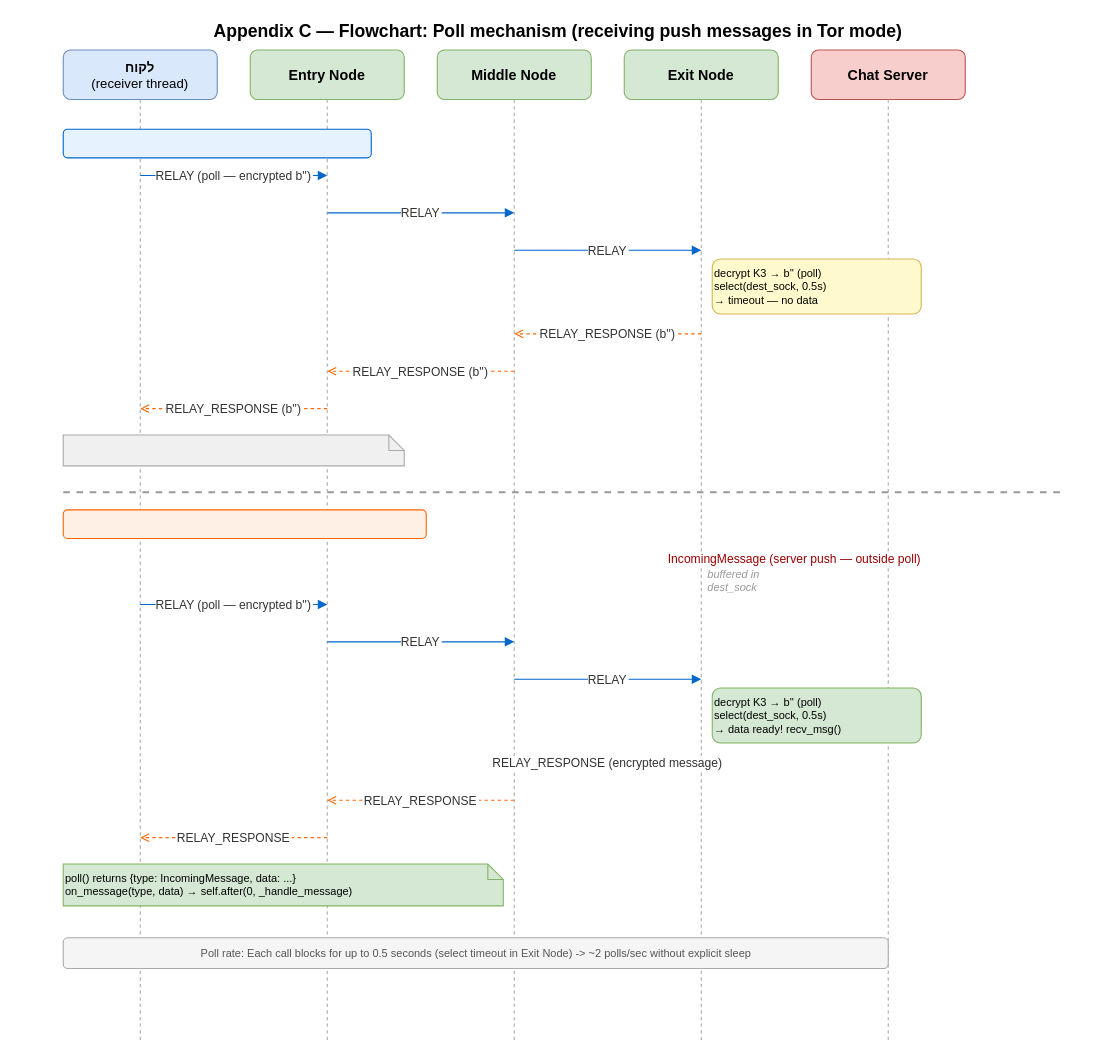
The diagram is 1115 pixels wide and 1063 high, and some of its shapes have lost their labels. The centre of each missing label's shape, as x and y in pixels:
"poll() returns None → loop continues immediately" belongs at point 233,450.
"תרחיש א — אין הודעה ממתינה" belongs at point 216,143.
"תרחיש ב — יש הודעה שנדחפה מהשרת (push)" belongs at point 244,523.
